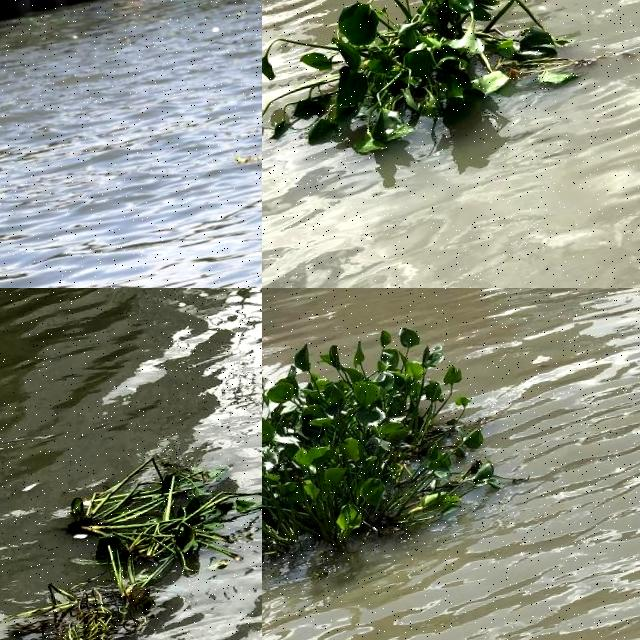water-hyacinth: (263, 313, 500, 580), (263, 1, 587, 176), (10, 431, 263, 640)
